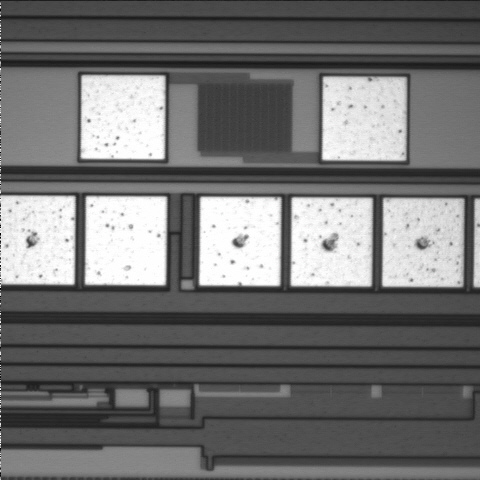pad: (85, 196, 167, 285), (199, 197, 281, 286), (382, 198, 464, 287), (291, 197, 372, 286), (81, 75, 165, 159), (322, 77, 406, 161)
